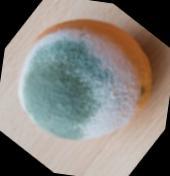Orange Rotten: (8, 4, 170, 155)
